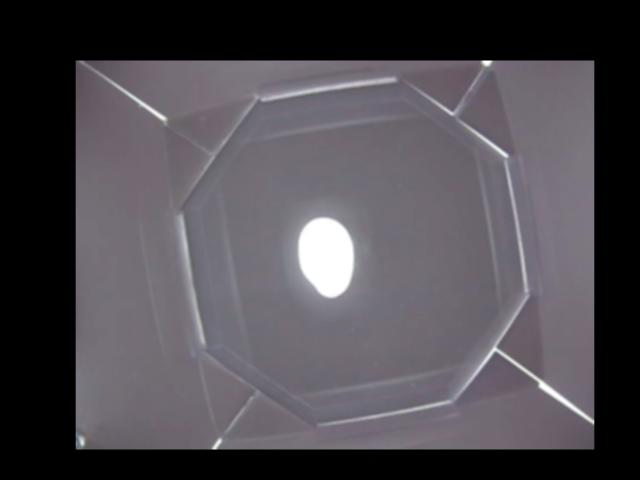Pebble: (297, 216, 354, 297)
